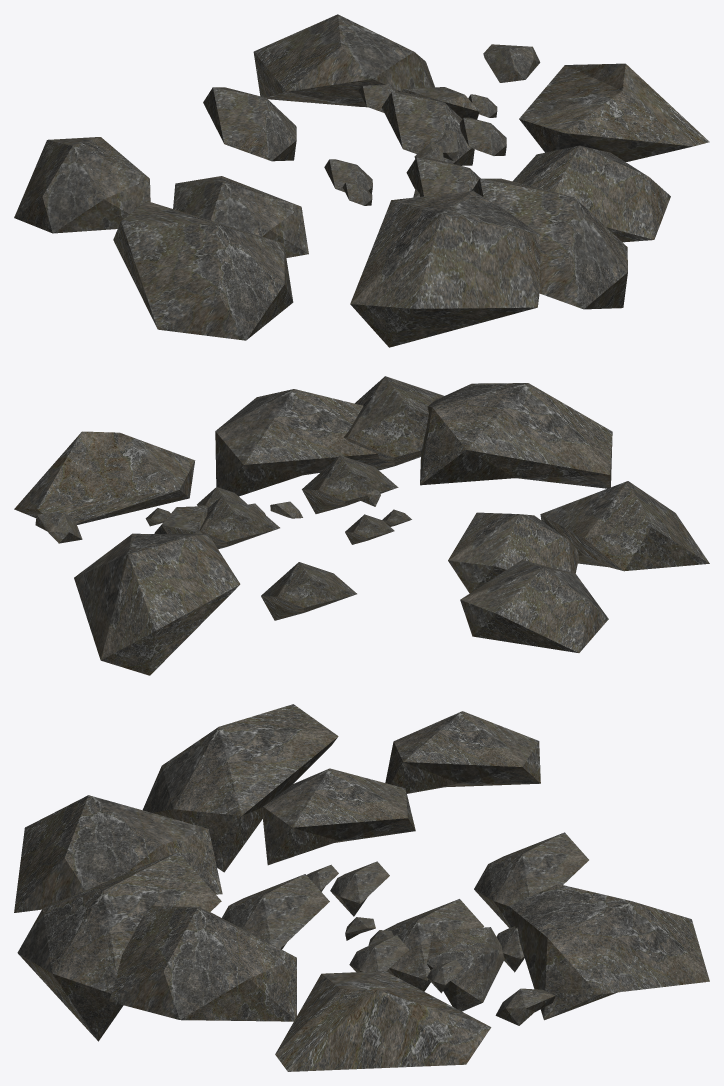
The model's file is small3.fbx.
3 views of the same model, one above another, from view 1: azimuth 30°, elevation 25°; view 2: azimuth 150°, elevation 25°; view 3: azimuth 270°, elevation 25° (orthographic). The views are drawn at different scales.
Visible parts, largest first — view 1: Rocks2; view 2: Rocks2; view 3: Rocks2.
Part boxes in pixels (<box>): Rocks2: <box>14,14,709,347</box>; Rocks2: <box>14,376,709,675</box>; Rocks2: <box>14,704,709,1071</box>.
Size of the model in its own units: 222 by 50.07 by 210.
